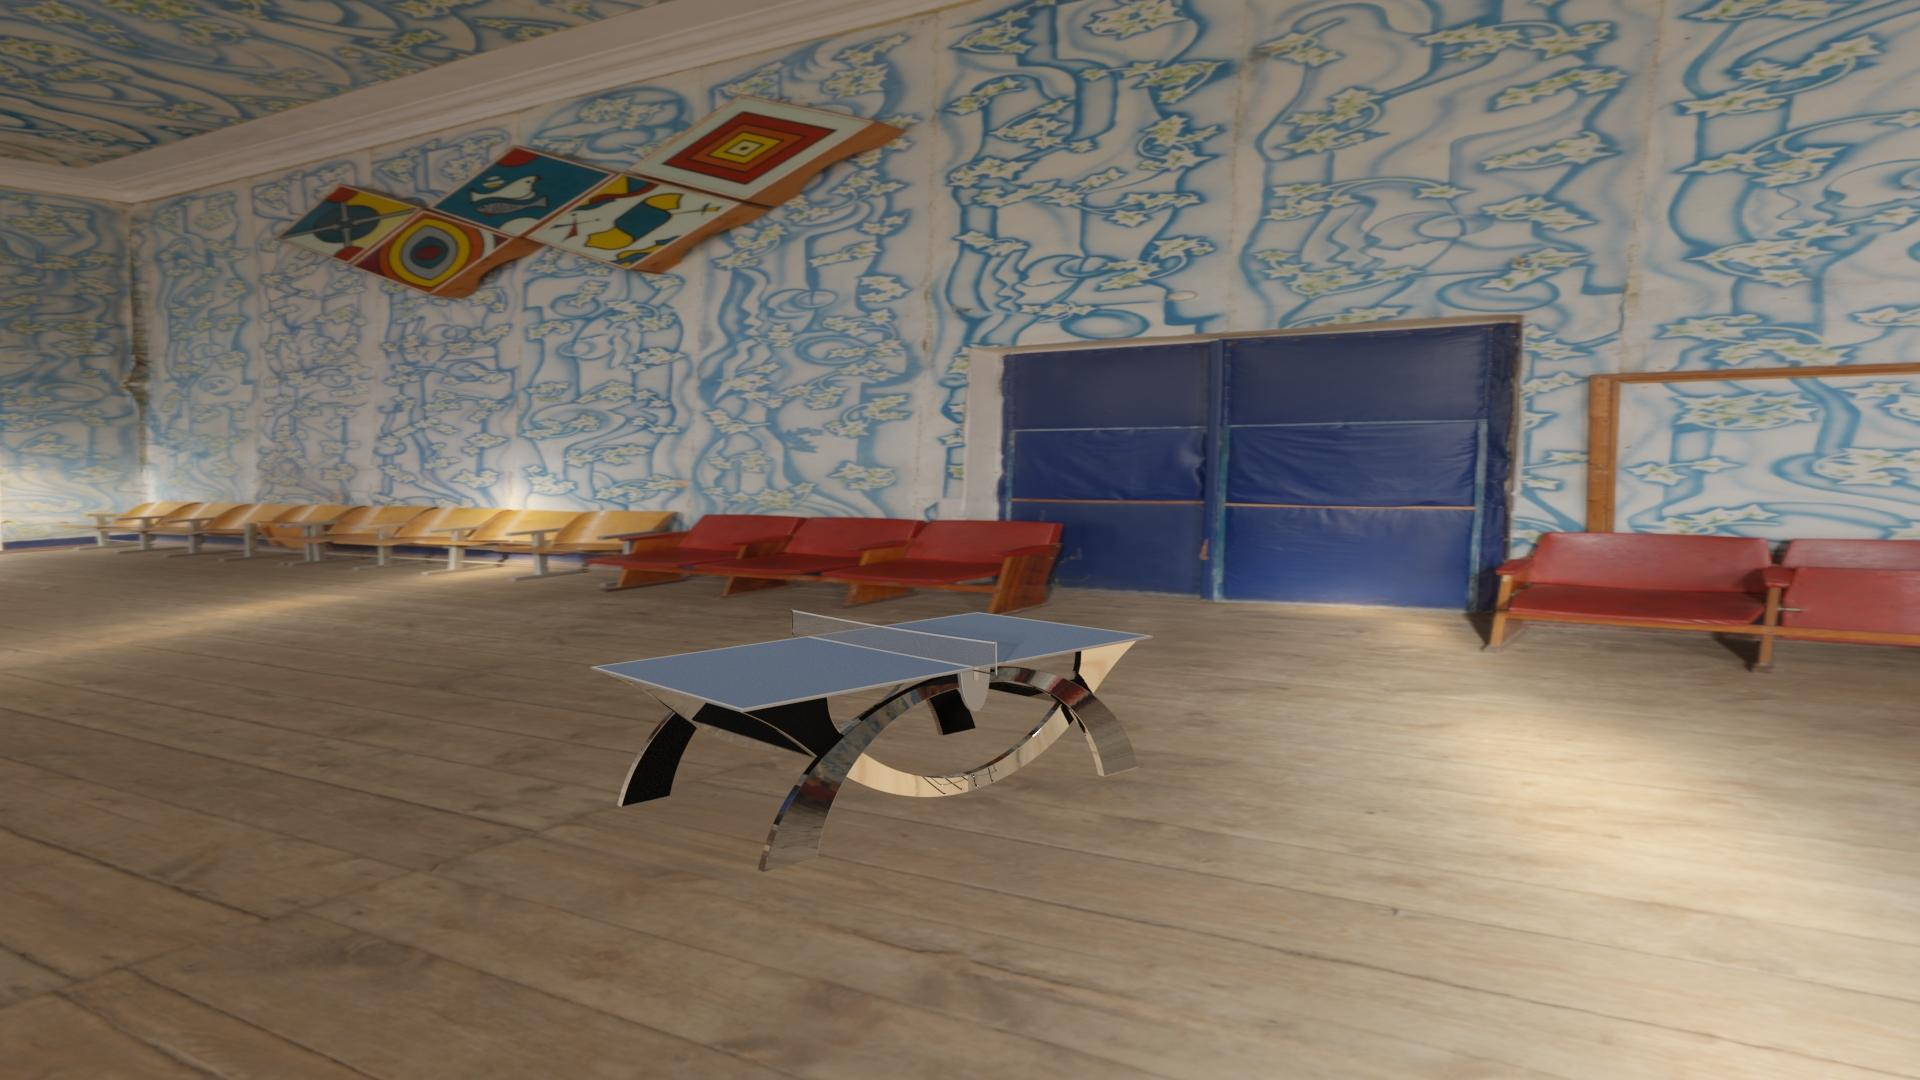table: (595, 613, 1147, 708)
